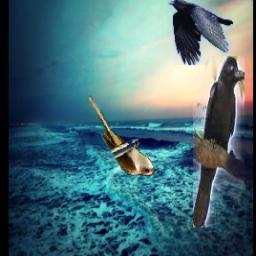Crow: (193, 56, 245, 227), (168, 0, 234, 65)
Cuckoo: (87, 96, 158, 177)
